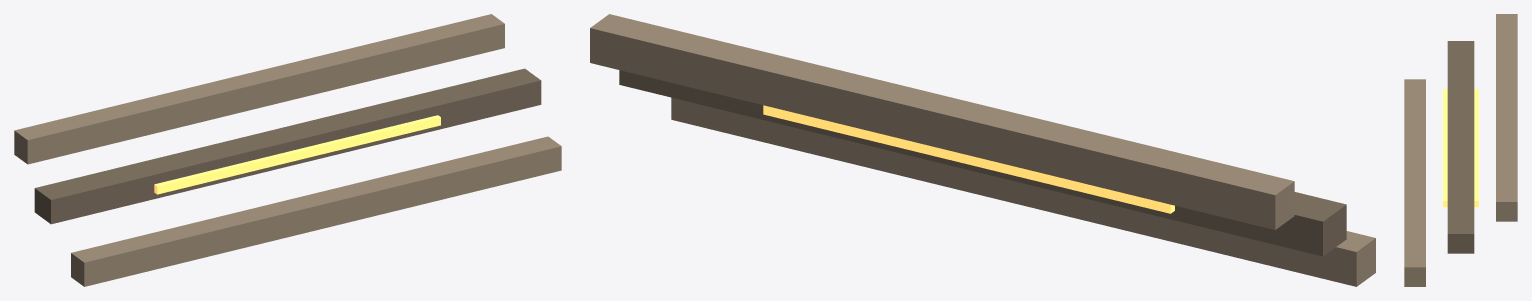
File: refinery-pipe-rack-lod2.glb
The picture shows the model from 3 angles, left to right: view 1: azimuth 30°, elevation 25°; view 2: azimuth 150°, elevation 25°; view 3: azimuth 270°, elevation 25°; orthographic projection. The views are drawn at different scales.
Parts seen in each view (by area): view 1: refinery-pipe-main-a, refinery-pipe-main-b, refinery-pipe-rack-spine, refinery-pipe-warning; view 2: refinery-pipe-main-b, refinery-pipe-main-a, refinery-pipe-rack-spine, refinery-pipe-warning; view 3: refinery-pipe-rack-spine, refinery-pipe-main-a, refinery-pipe-main-b, refinery-pipe-warning.
Boxes of the visible parts, box(x1,y1,x2,y2) form: refinery-pipe-main-a: box(71, 136, 561, 286); refinery-pipe-main-b: box(14, 14, 504, 164); refinery-pipe-rack-spine: box(34, 68, 541, 224); refinery-pipe-warning: box(154, 115, 440, 194); refinery-pipe-main-b: box(590, 14, 1294, 229); refinery-pipe-main-a: box(671, 97, 1375, 286); refinery-pipe-rack-spine: box(619, 70, 1346, 256); refinery-pipe-warning: box(763, 105, 1174, 213); refinery-pipe-rack-spine: box(1447, 41, 1474, 253); refinery-pipe-main-a: box(1404, 79, 1425, 286); refinery-pipe-main-b: box(1496, 14, 1517, 221); refinery-pipe-warning: box(1443, 89, 1478, 207).
Size of the model in its own units: 3.8 by 0.78 by 0.94.
